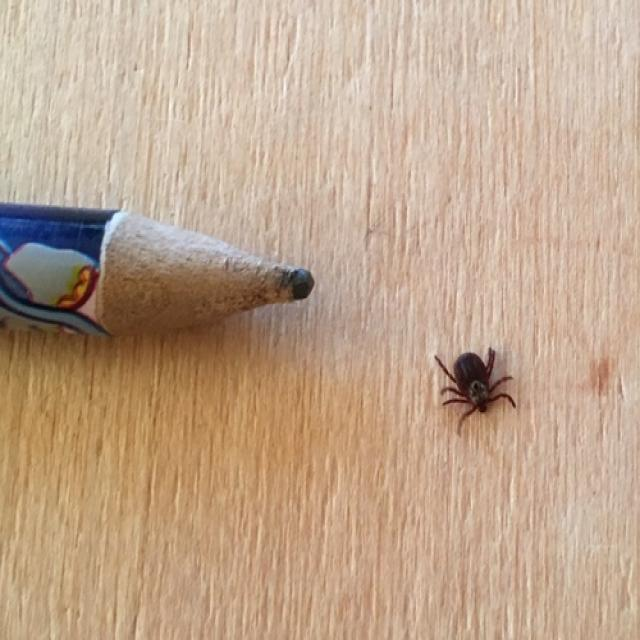Dermacentor Reticulatus-F: (434, 350, 517, 436)
